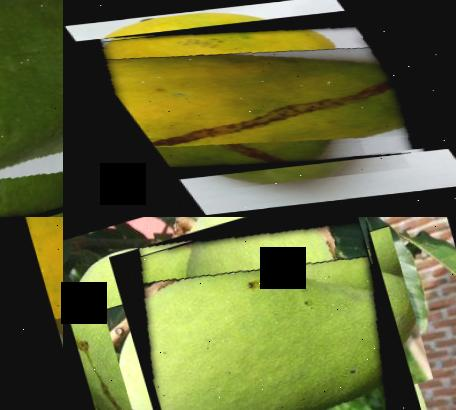PartiallyRipe: (76, 12, 448, 178), (0, 217, 63, 378)
Unripe: (116, 217, 421, 410), (0, 0, 63, 217)
